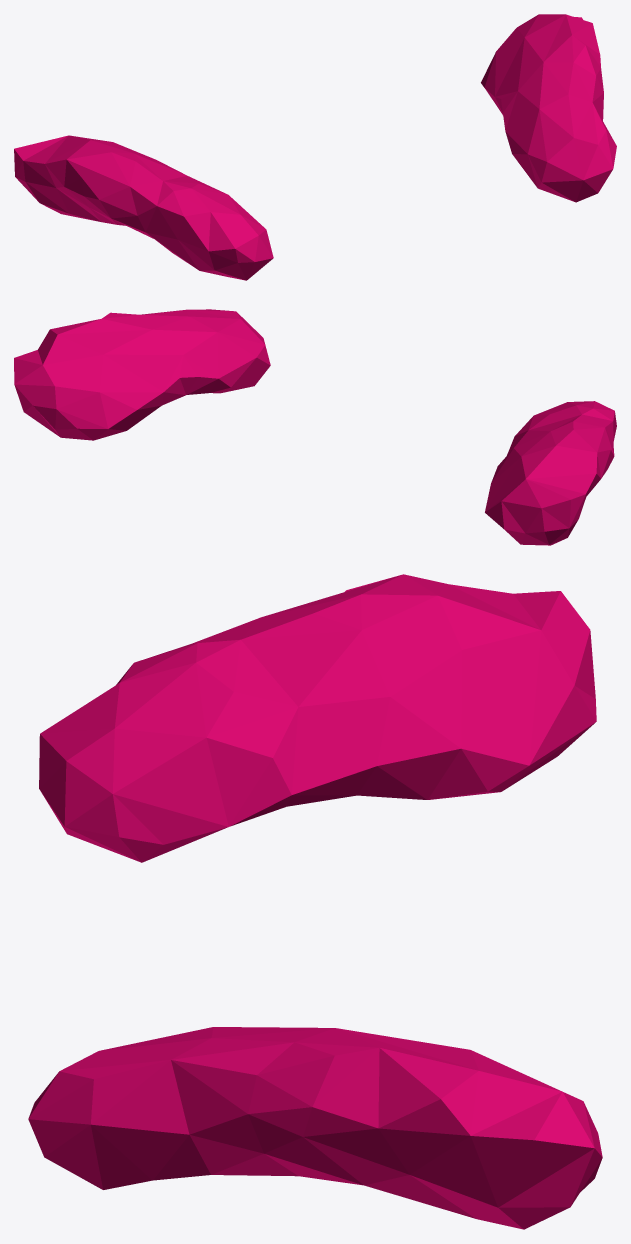
File: 211-LDSF-lateral dorsal thalamic nucleus, superficial part-('1.0000', '0.0000', '0.4980').obj
3 renders of one model, top to bottom at view 1: azimuth 30°, elevation 25°; view 2: azimuth 150°, elevation 25°; view 3: azimuth 270°, elevation 25°, orthographic. The views are drawn at different scales.
Size of the model in its own units: 74.35 by 12.38 by 32.79.
